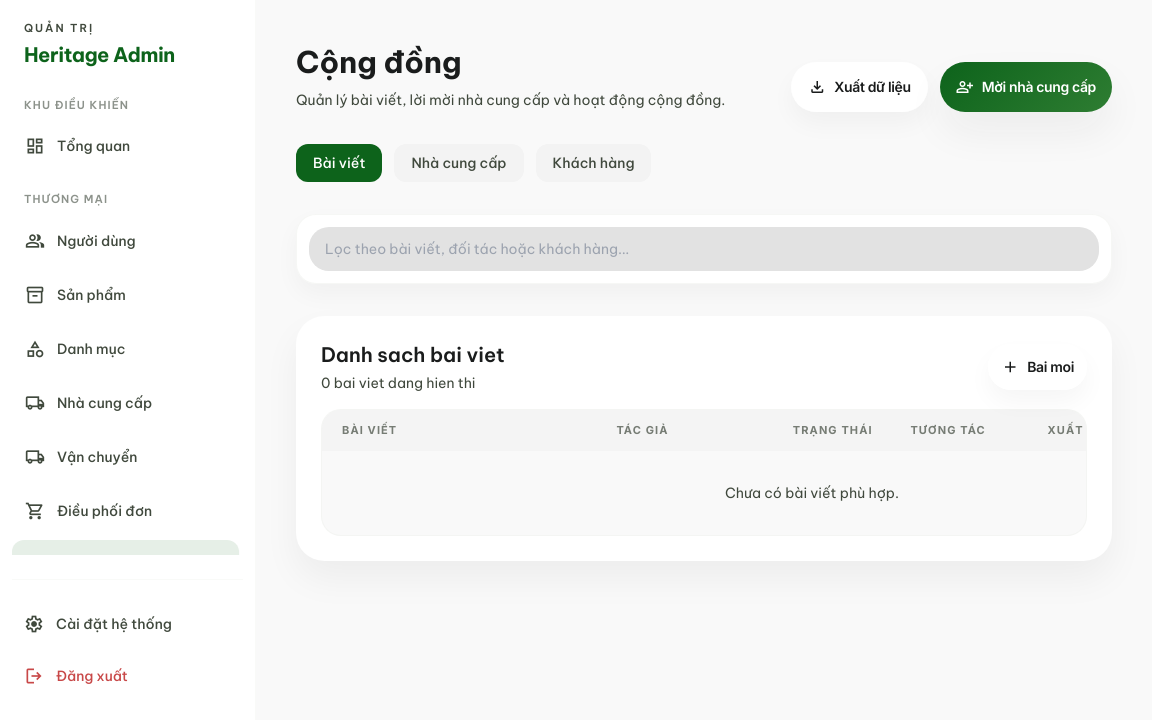
Scenario: customer commerce routes › lets an admin create a post from the community page
Expected: the heading "Danh sach bai viet" is shown, x1=321 y1=341 x2=505 y2=369
Click the button "Bai moi" at (1038, 367), box x1=988 y1=344 x2=1087 y2=390
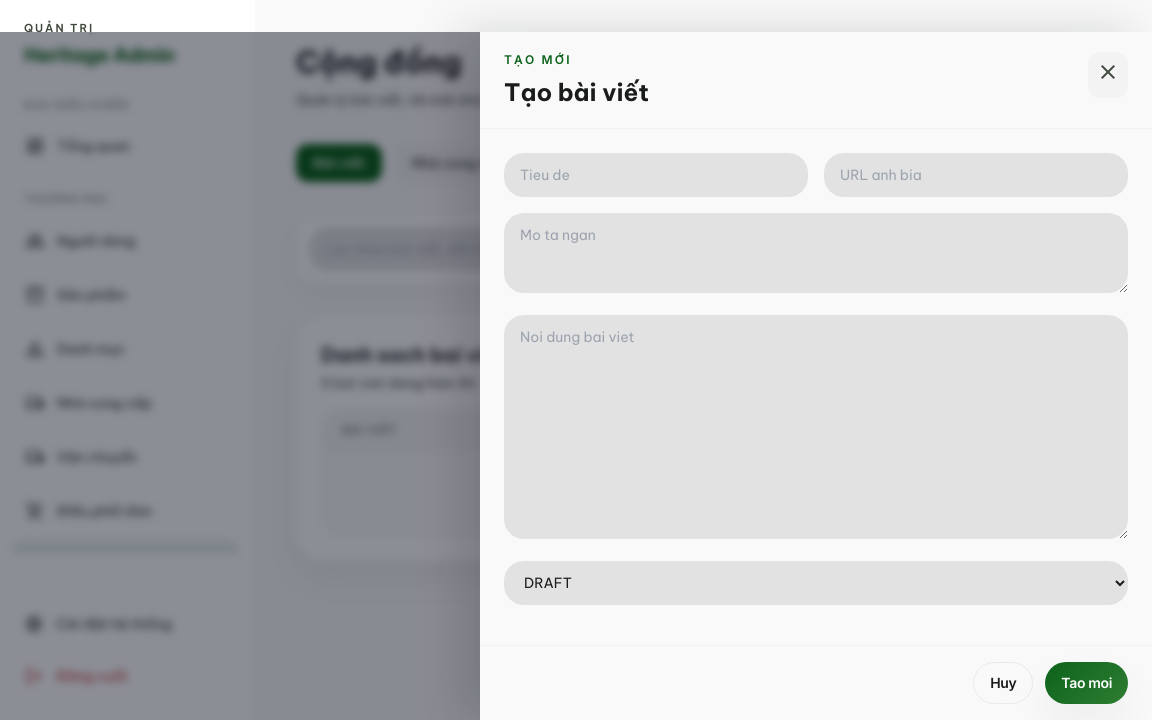
Type "Bai viet admin moi" into the field with placeholder "Tieu de" at (656, 175), box x1=504 y1=153 x2=808 y2=197
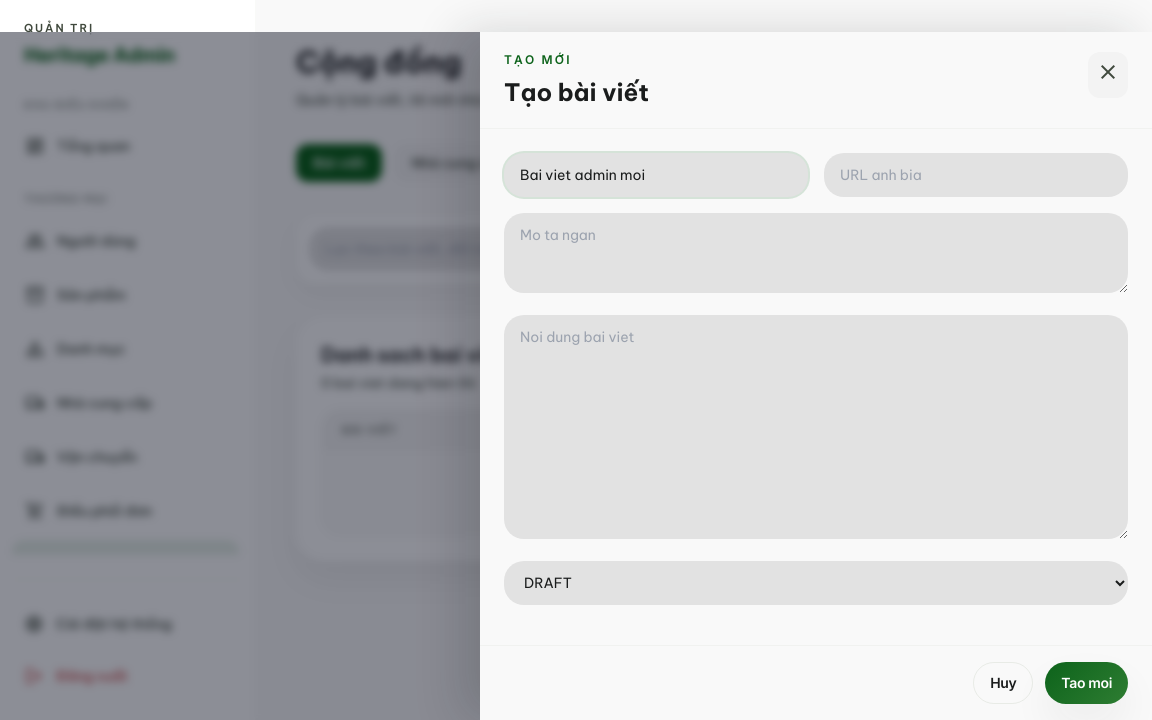
Type "Noi dung tu admin." into the text box with placeholder "Noi dung bai viet" at (816, 427), box x1=504 y1=315 x2=1128 y2=539
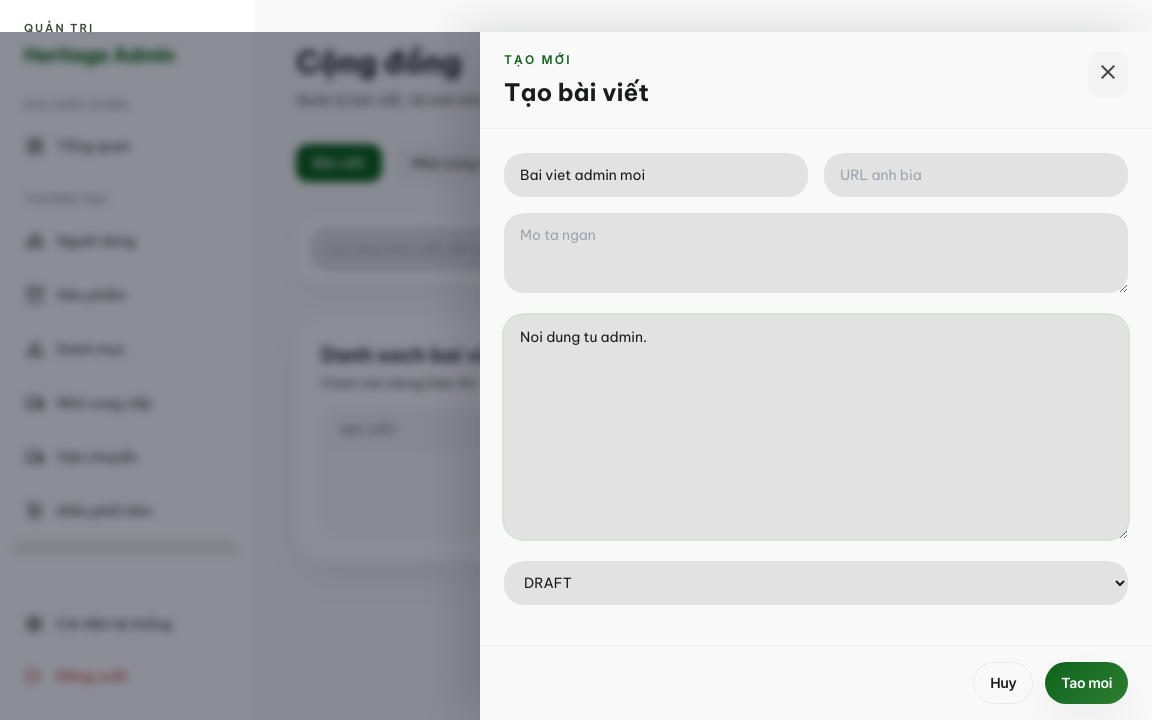
Select "PUBLISHED" in the dropdown showing "DRAFT" at (816, 583), box x1=504 y1=561 x2=1128 y2=605
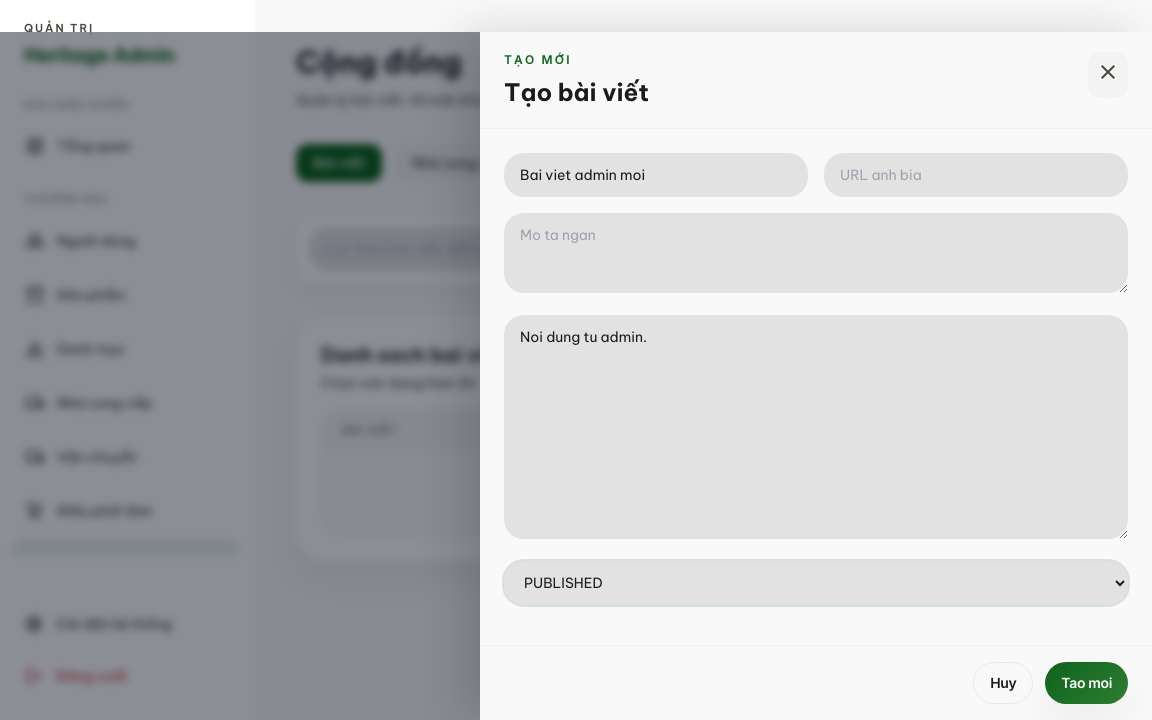
Click the button "Tao moi" at (1087, 683), box x1=1045 y1=662 x2=1128 y2=704
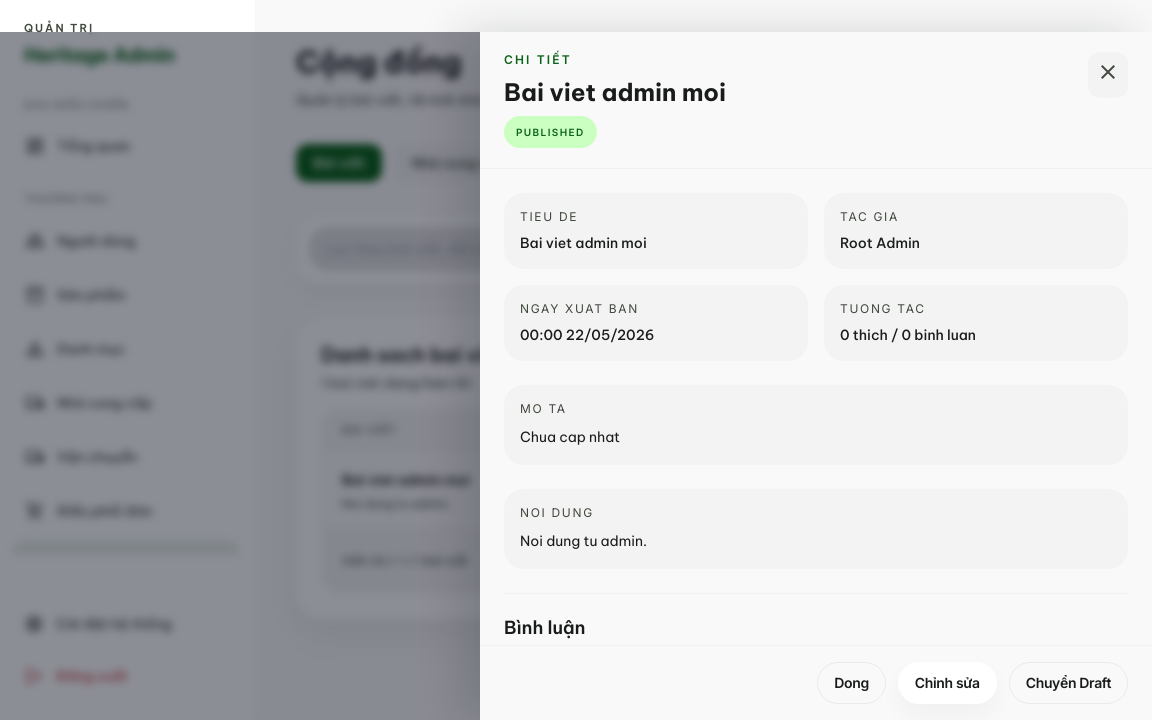
Expected: the text "Bai viet admin moi" below "Tác giả" is shown, x1=342 y1=470 x2=470 y2=488
